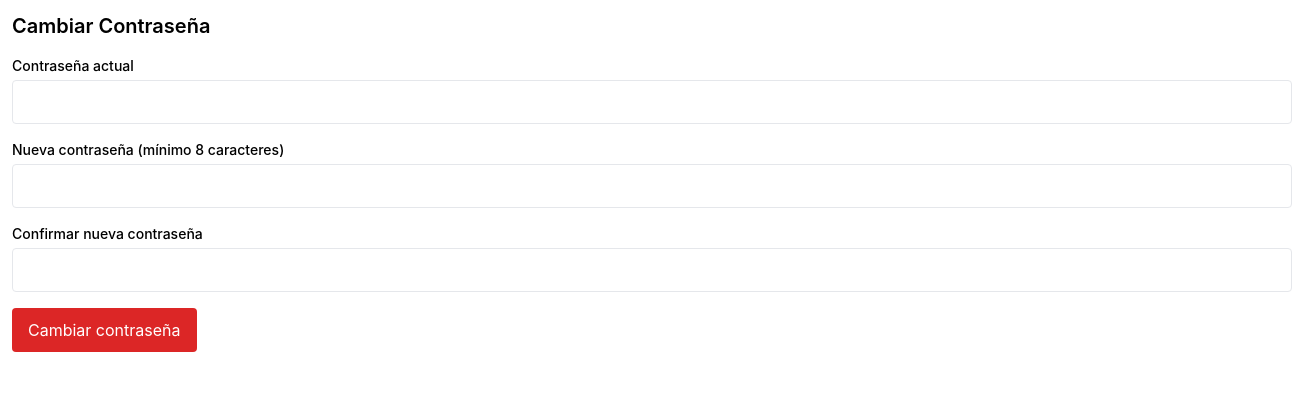
Test: ChangePasswordForm › on 409 response → shows inline error on current_password field
Type "WrongPass!" into the password field labelled "Contraseña actual" at (652, 102), box [12,80,1292,124]
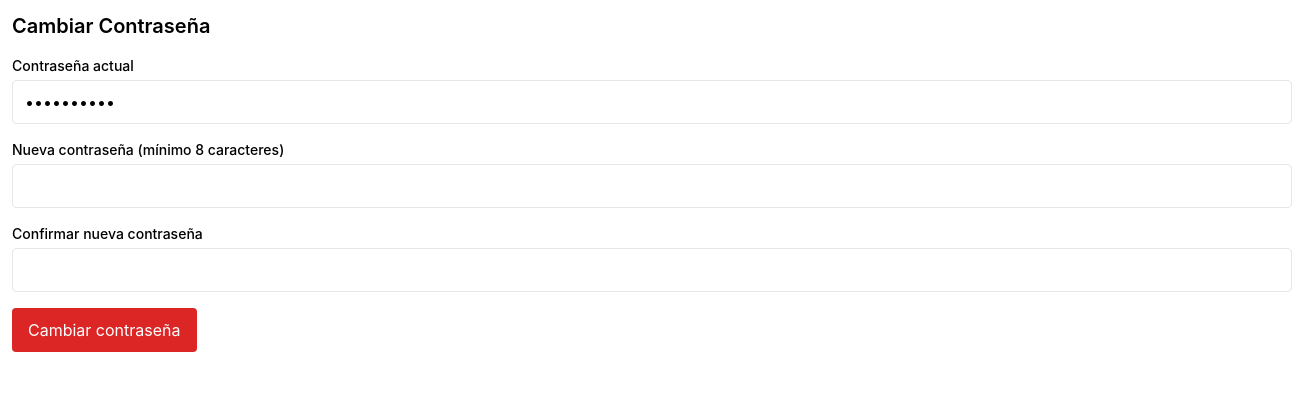
Type "NewPass1!" into the password field labelled "Nueva contraseña" at (652, 186), box [12,164,1292,208]
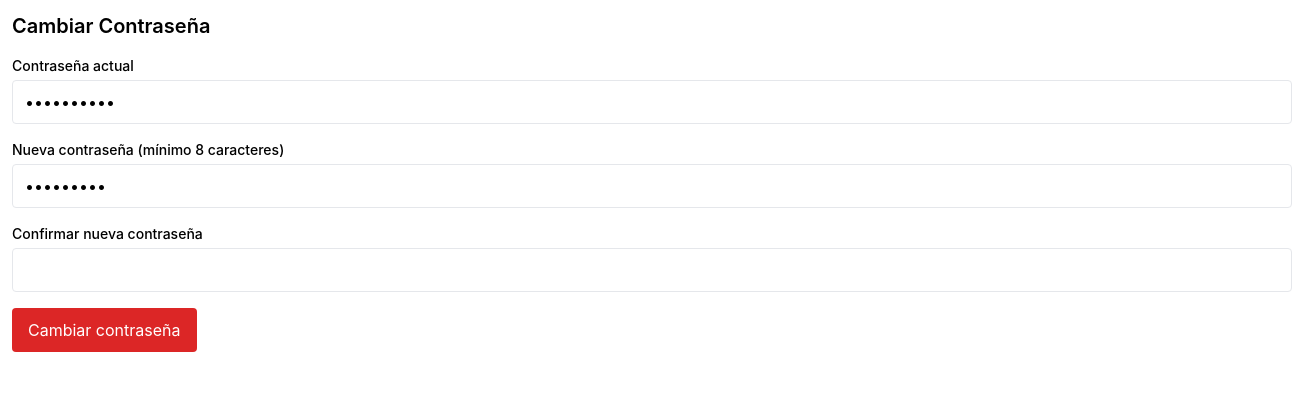
Type "NewPass1!" into the password field labelled "Confirmar nueva contraseña" at (652, 270), box [12,248,1292,292]
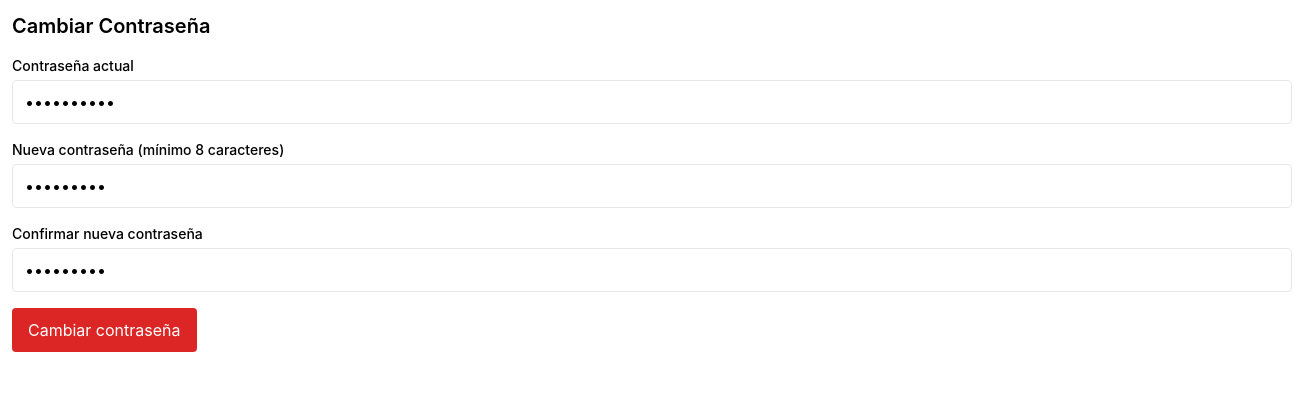
Click the button "Cambiar contraseña" at (104, 330), box [12,308,196,352]
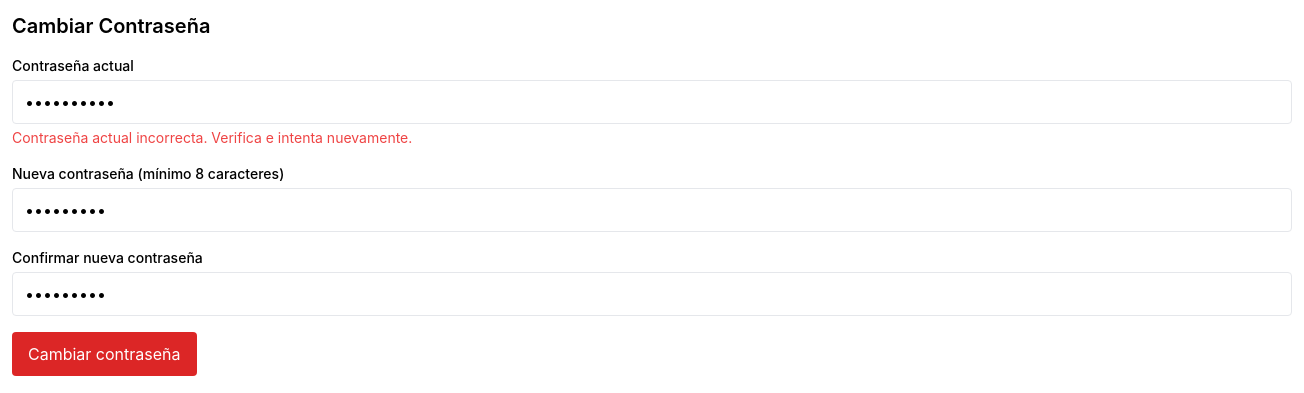
Now the text "Contraseña actual incorrecta. Verifica e intenta nuevamente." is shown, box [12,129,412,146]
